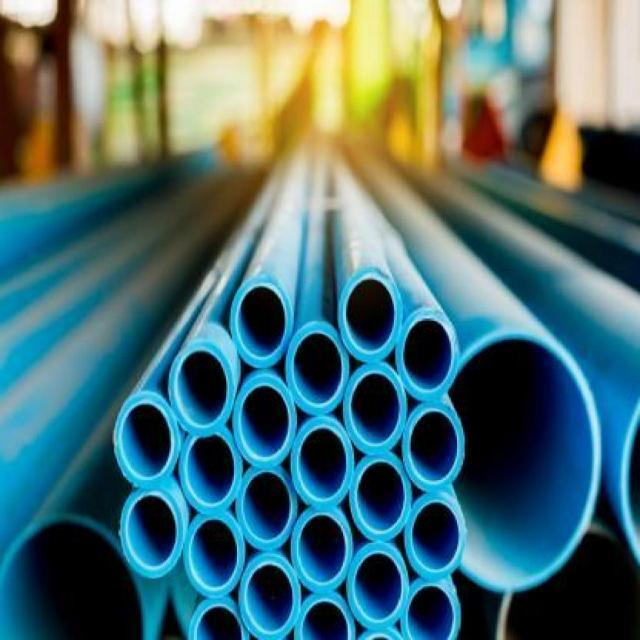pipe: (445, 325, 604, 591), (1, 502, 149, 640), (487, 519, 638, 639), (114, 483, 185, 583), (283, 319, 350, 419), (166, 342, 241, 431), (342, 362, 410, 459), (114, 394, 184, 487), (340, 265, 403, 367), (233, 373, 299, 470), (227, 279, 297, 369), (400, 401, 467, 494), (346, 451, 413, 544), (343, 542, 410, 635), (235, 545, 300, 640), (287, 503, 354, 591), (179, 510, 246, 597), (391, 310, 456, 399), (236, 464, 301, 553), (177, 430, 246, 510), (403, 488, 463, 577), (399, 573, 463, 640), (296, 423, 349, 501), (294, 589, 354, 640), (187, 595, 252, 640)
